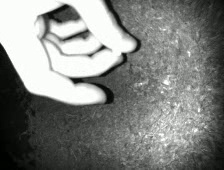corn: (110, 47, 122, 57)
